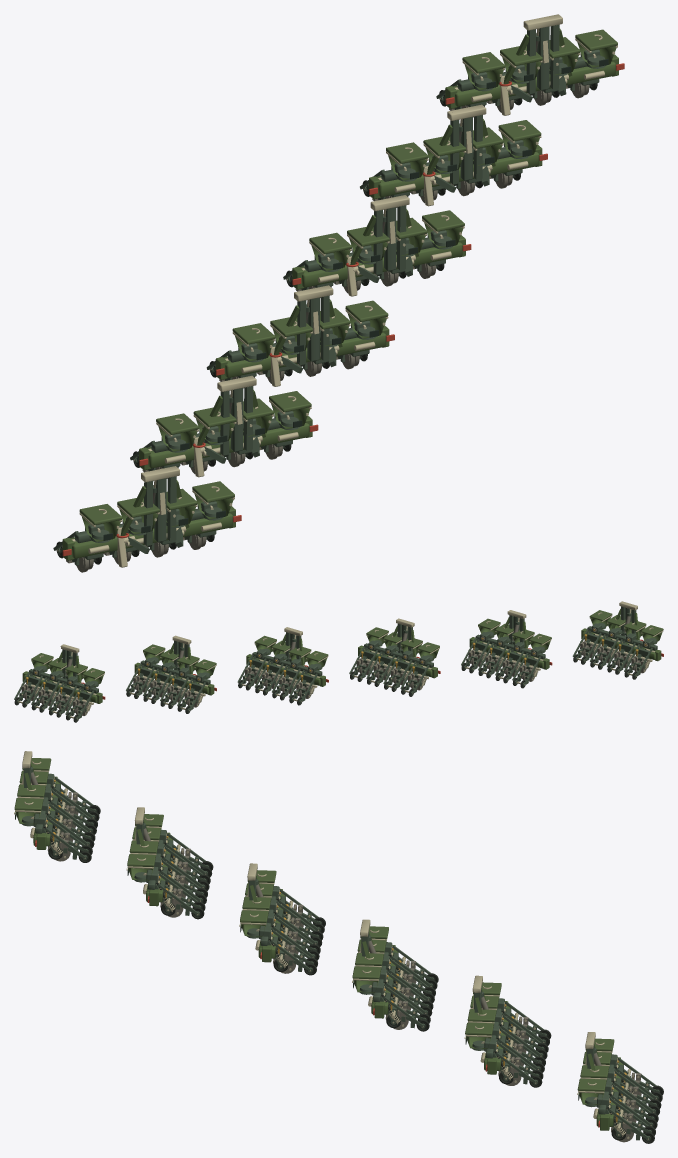
Rendered from audit-hf-seeder-compact-sow-tq.glb.
3 renders of one model, top to bottom at view 1: azimuth 30°, elevation 25°; view 2: azimuth 150°, elevation 25°; view 3: azimuth 270°, elevation 25°, orthographic. The views are drawn at different scales.
Parts seen in each view (by area): view 1: toolbarBeam (×6); view 2: toolbarBeam (×6), toolbarRail (×6); view 3: no part large enough to name.
Boxes of the visible parts, x1=… form: toolbarBeam (×6): x1=70, y1=61, x2=615, y2=558; toolbarBeam (×6): x1=23, y1=631, x2=657, y2=702; toolbarRail (×6): x1=29, y1=626, x2=657, y2=693.
Bounding box in the file's own units: 20.45 × 2.25 × 16.31.
